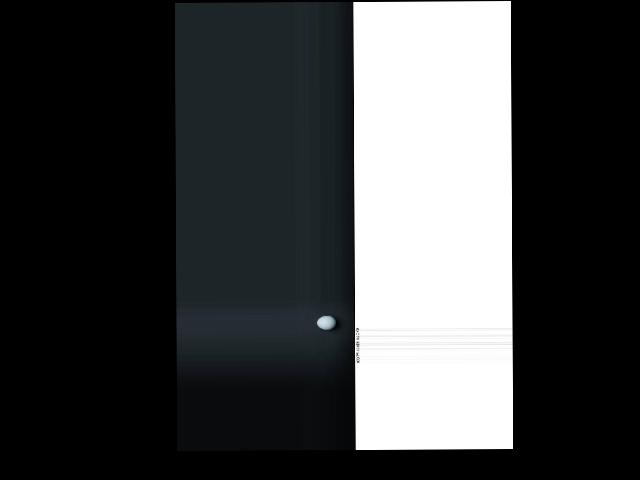egg: (317, 315, 336, 330)
